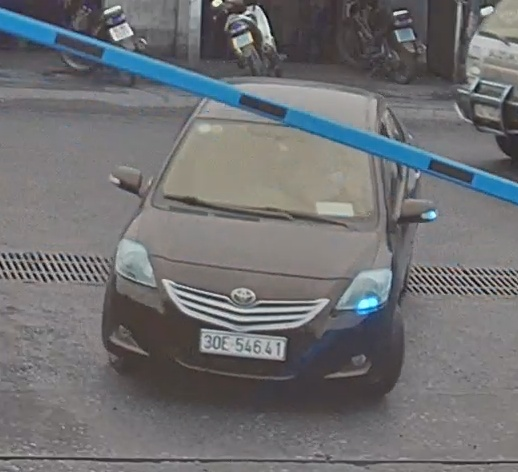vehicle plate: (198, 322, 291, 364)
